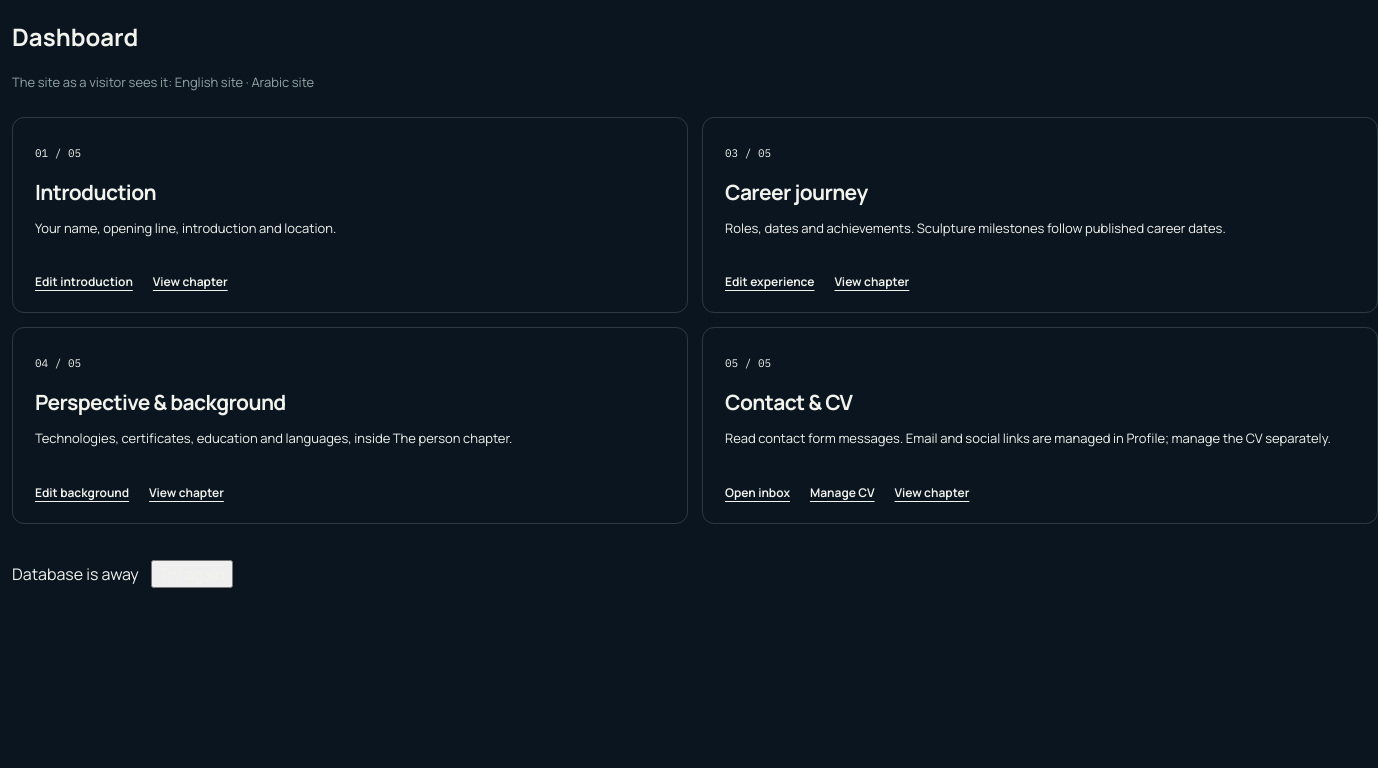
Test: the dashboard › offers a way back after a failed load, and asks again
Expected: the message reads "Database is away", [12,563,139,585]
Click the button "Try again".
click(192, 574)  # box [151,560,233,588]
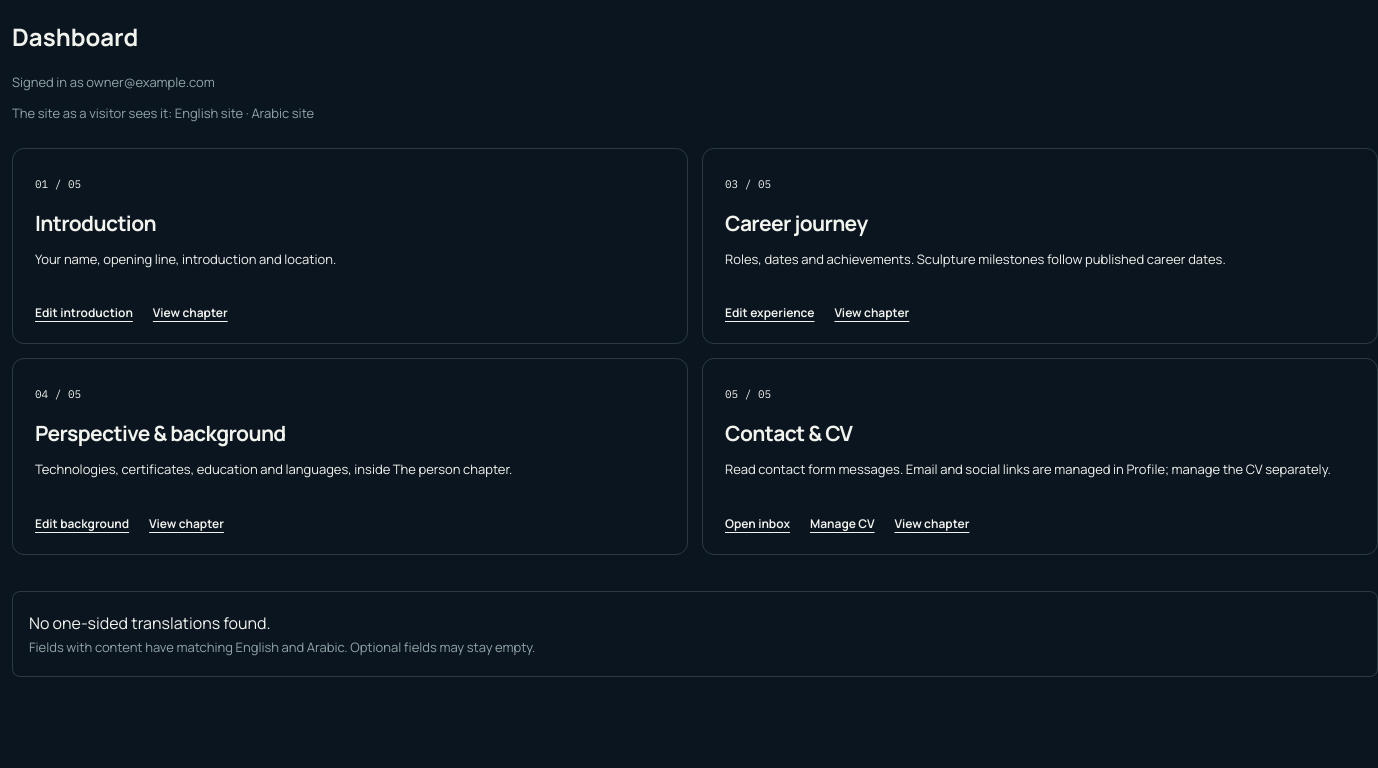
Expected: the text "No one-sided translations found." is shown, [29,612,270,634]
